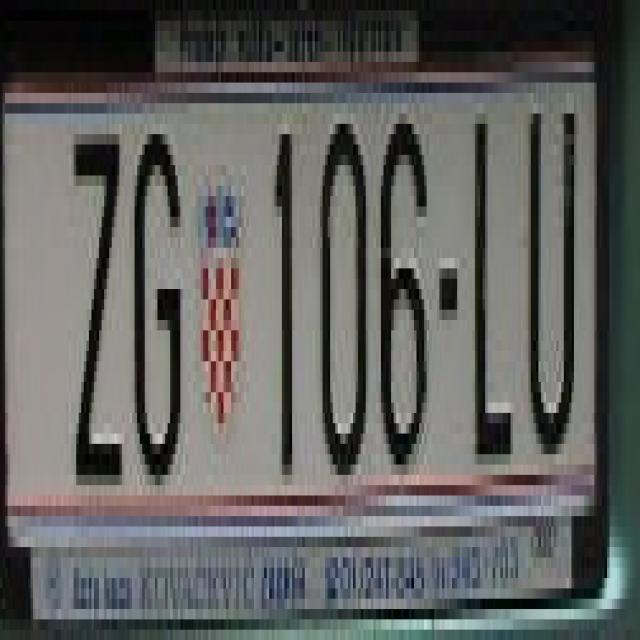0: (320, 113, 363, 474)
1: (272, 134, 302, 464)
6: (376, 92, 427, 454)
G: (132, 134, 183, 474)
L: (467, 123, 516, 454)
U: (523, 103, 579, 454)
Z: (68, 124, 128, 475)
